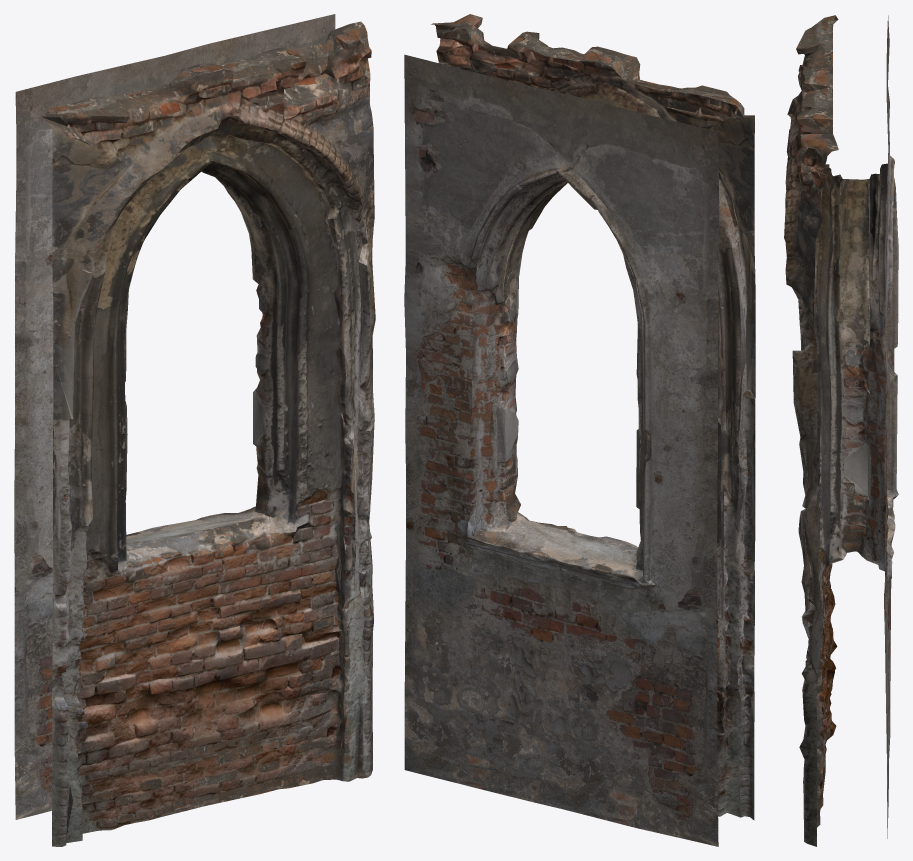
Rendered from SM_ChapelWall_01_07.fbx.
The picture shows the model from 3 angles, left to right: view 1: azimuth 30°, elevation 25°; view 2: azimuth 150°, elevation 25°; view 3: azimuth 270°, elevation 25°; orthographic projection. The views are drawn at different scales.
Visible parts, largest first — view 1: sm_ChapelWall_01_07_LOD0; view 2: sm_ChapelWall_01_07_LOD0; view 3: sm_ChapelWall_01_07_LOD0.
Boxes of the visible parts, x1,y1,x2,y2 form: sm_ChapelWall_01_07_LOD0: [14, 14, 375, 846]; sm_ChapelWall_01_07_LOD0: [404, 14, 755, 846]; sm_ChapelWall_01_07_LOD0: [784, 15, 898, 846].
Size of the model in its own units: 82.52 by 250 by 554.
